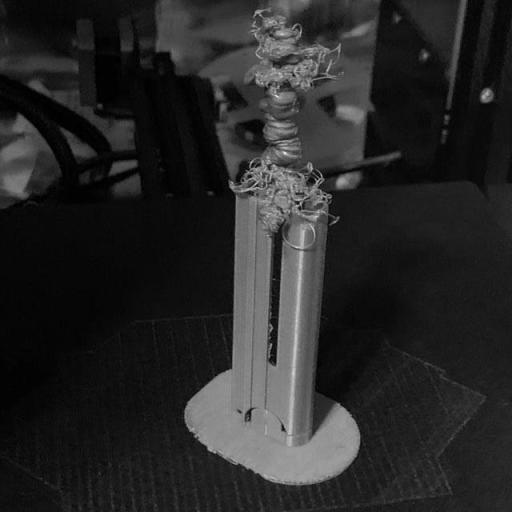spaghetti_and_stringing: (226, 5, 342, 251)
